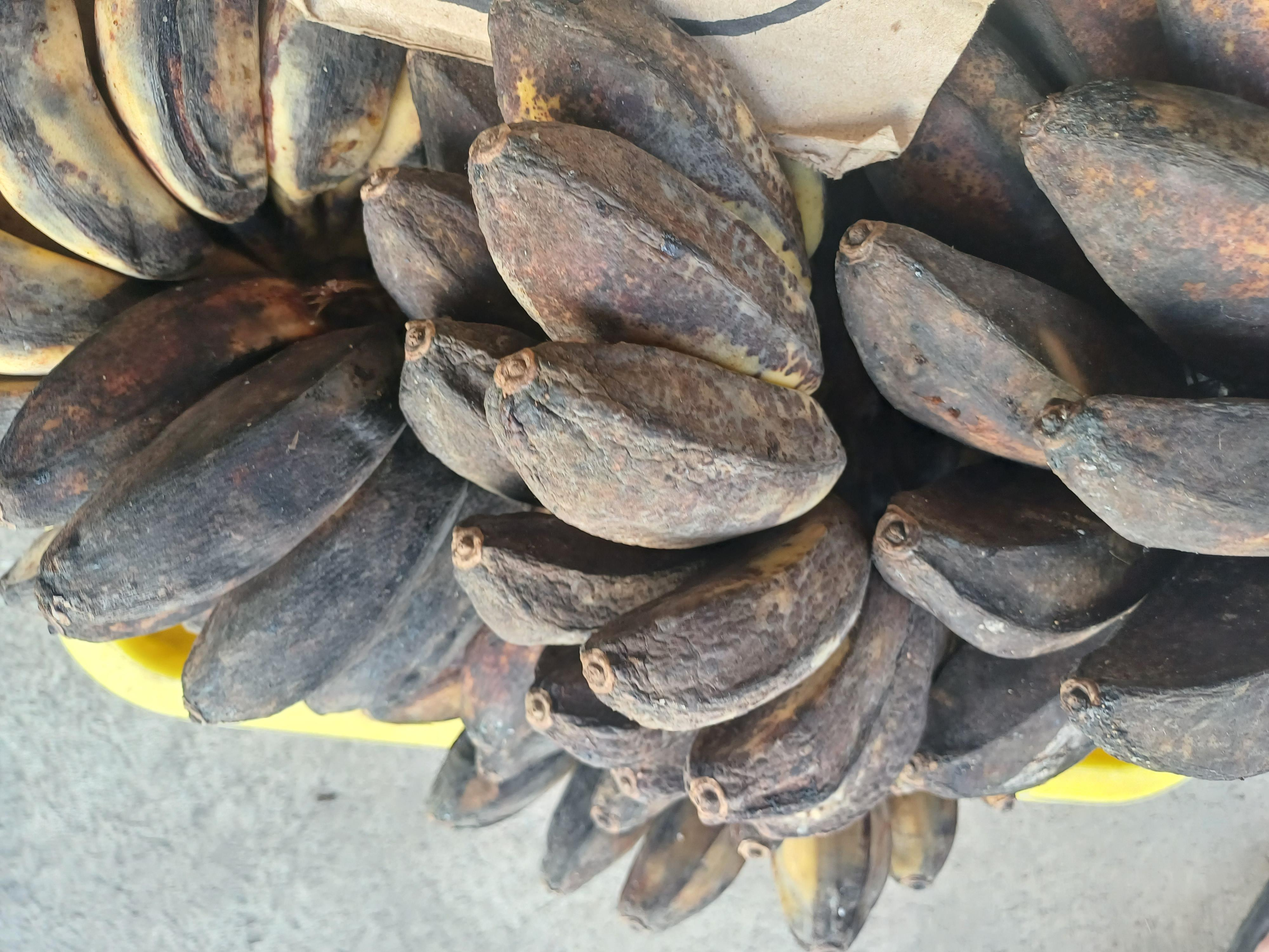overripe: (360, 0, 961, 838), (834, 0, 1269, 800), (0, 279, 525, 725)
ripe: (0, 0, 430, 386)
